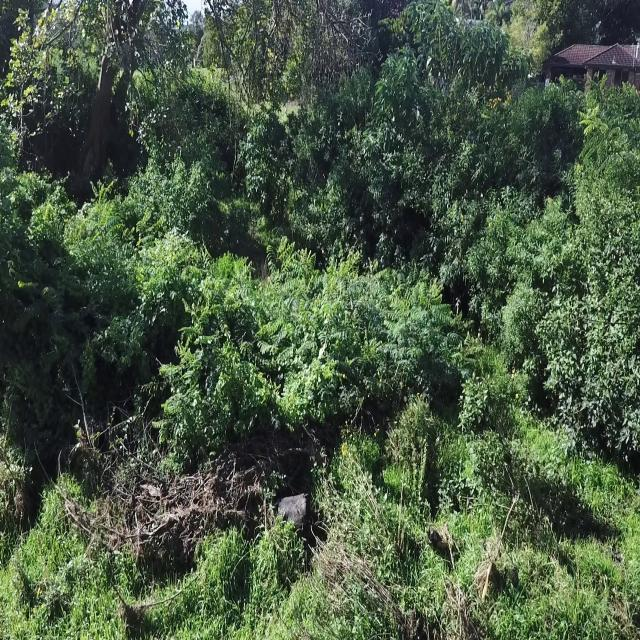Mysore-Thorn-Weed: (256, 241, 325, 345), (382, 276, 460, 366), (156, 340, 206, 468), (75, 178, 125, 286), (183, 255, 244, 336), (130, 198, 177, 293)
